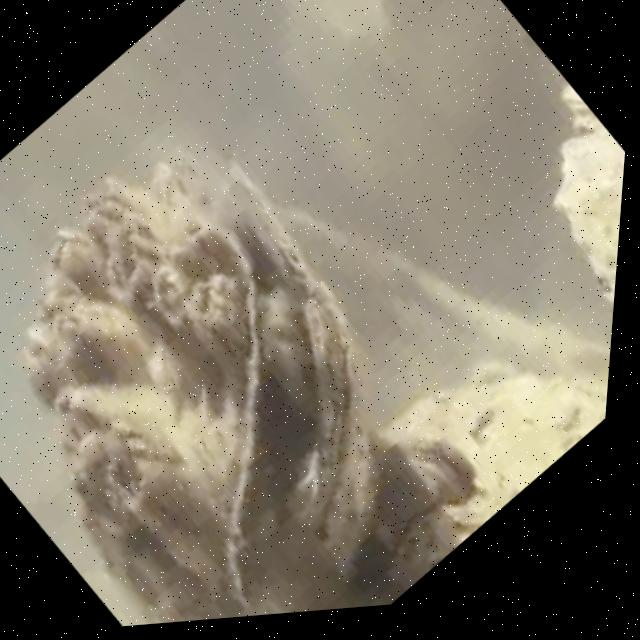Oyster-Indeterminate: (382, 372, 608, 592), (360, 440, 473, 585), (558, 83, 625, 302)
Oyster-Open: (25, 165, 376, 623)
